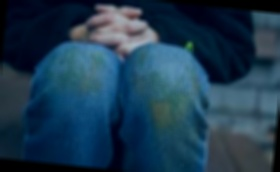earth: (61, 53, 105, 90), (153, 97, 186, 124)
